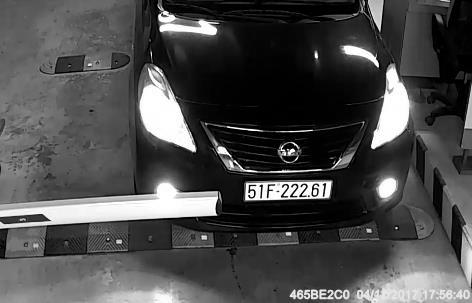License-plate: (244, 174, 340, 217)
